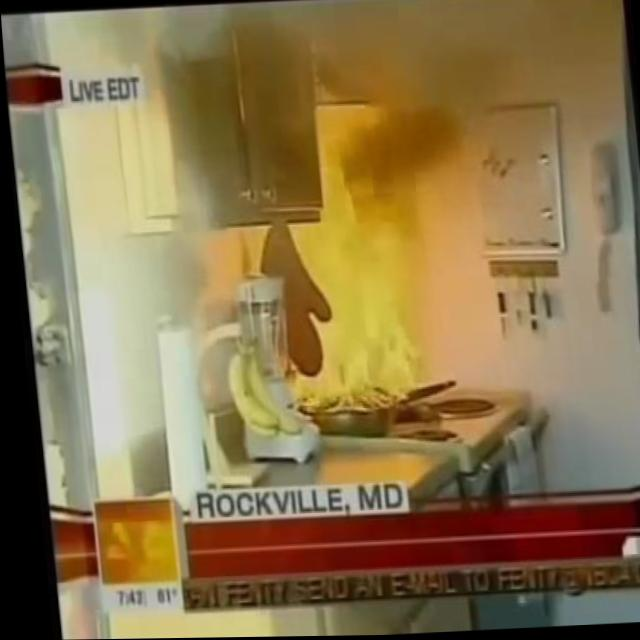fire: (275, 166, 417, 411)
